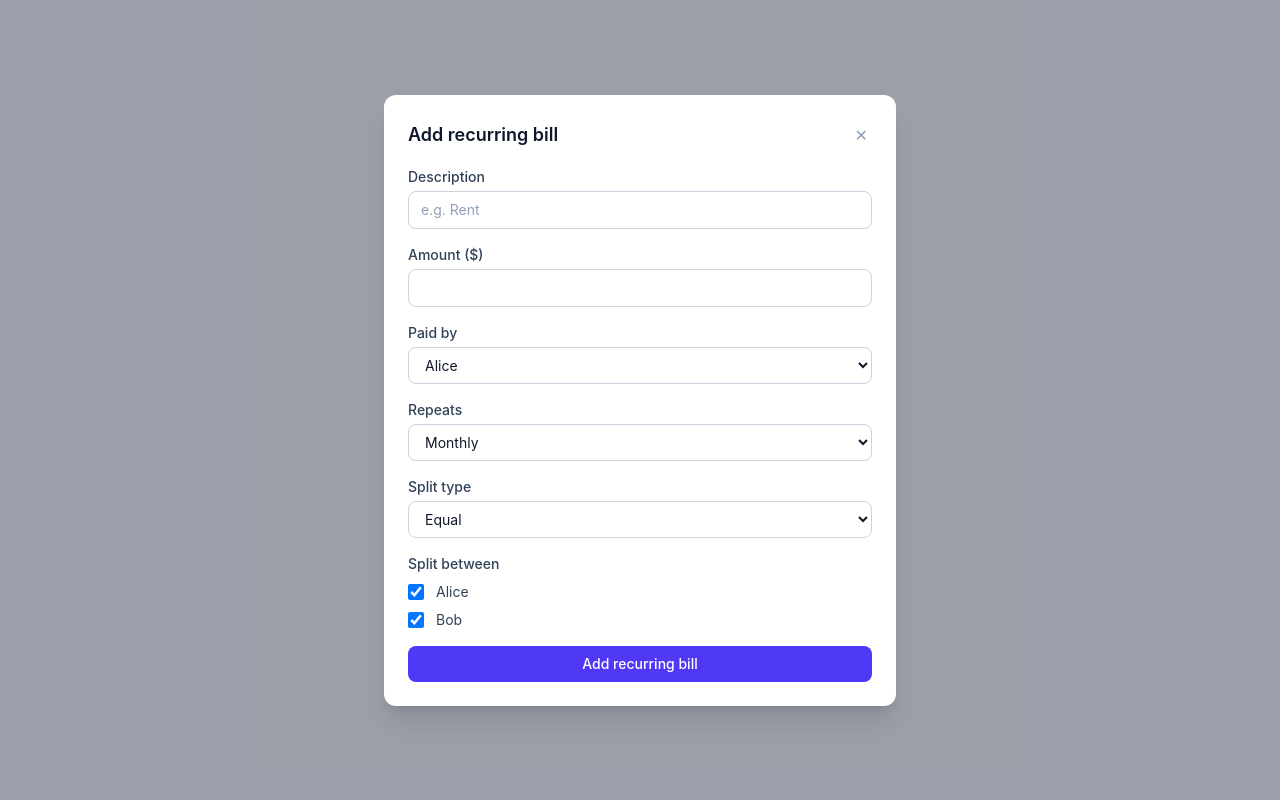
Scenario: AddRecurringModal › shows the server error and keeps the modal open when submission fails
The image size is (1280, 800).
Step 1. Type "Rent" into the field labelled "Description" → [640, 210], box x1=408 y1=190 x2=872 y2=228
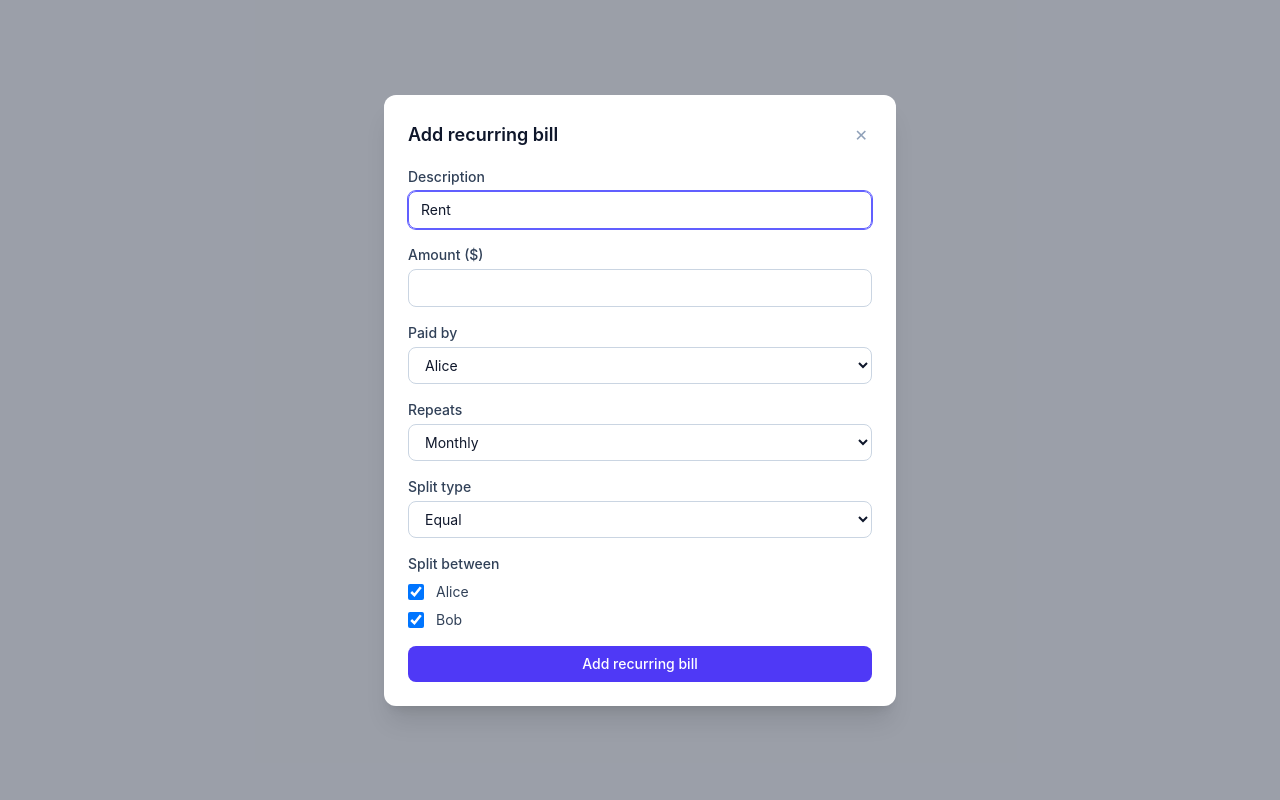
Step 2. Type "10" into the number field labelled "Amount ($)" → [640, 288], box x1=408 y1=268 x2=872 y2=306
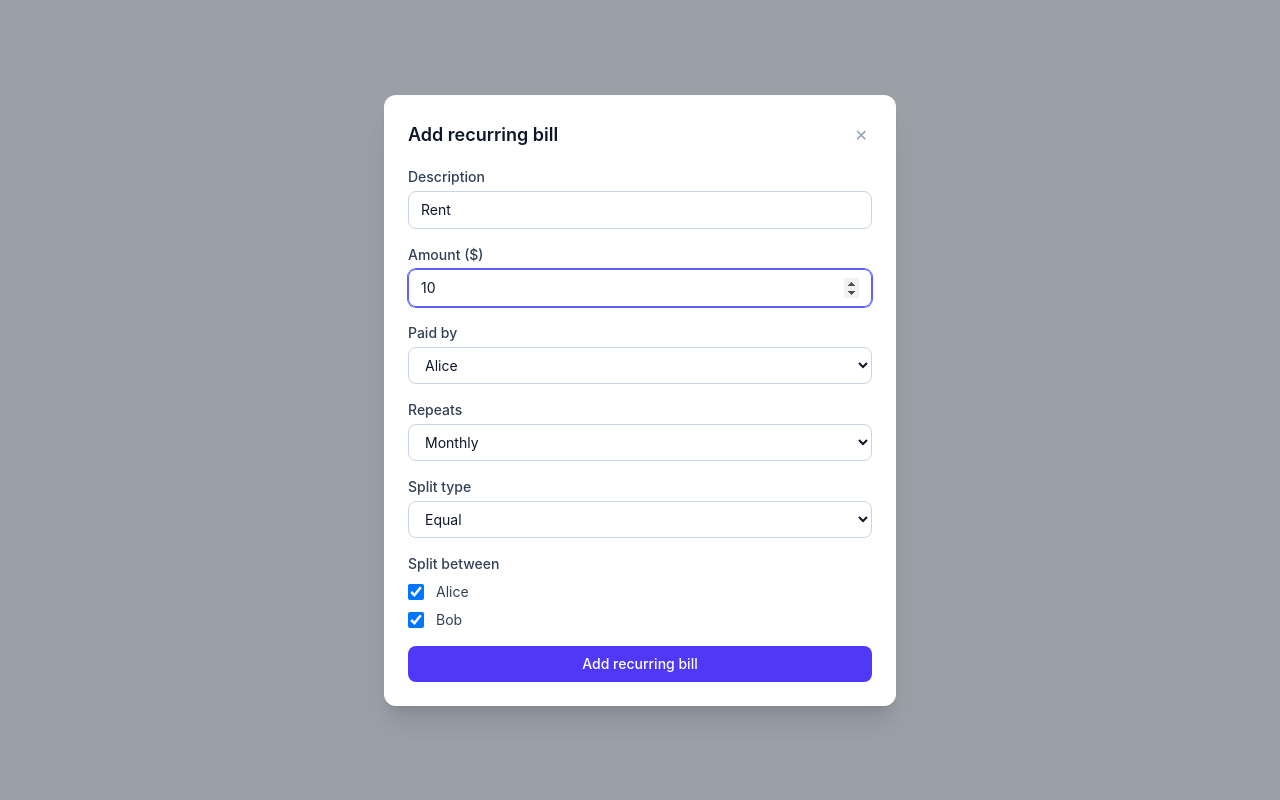
Step 3. Click the button "Add recurring bill" → [640, 664], box x1=408 y1=646 x2=872 y2=682
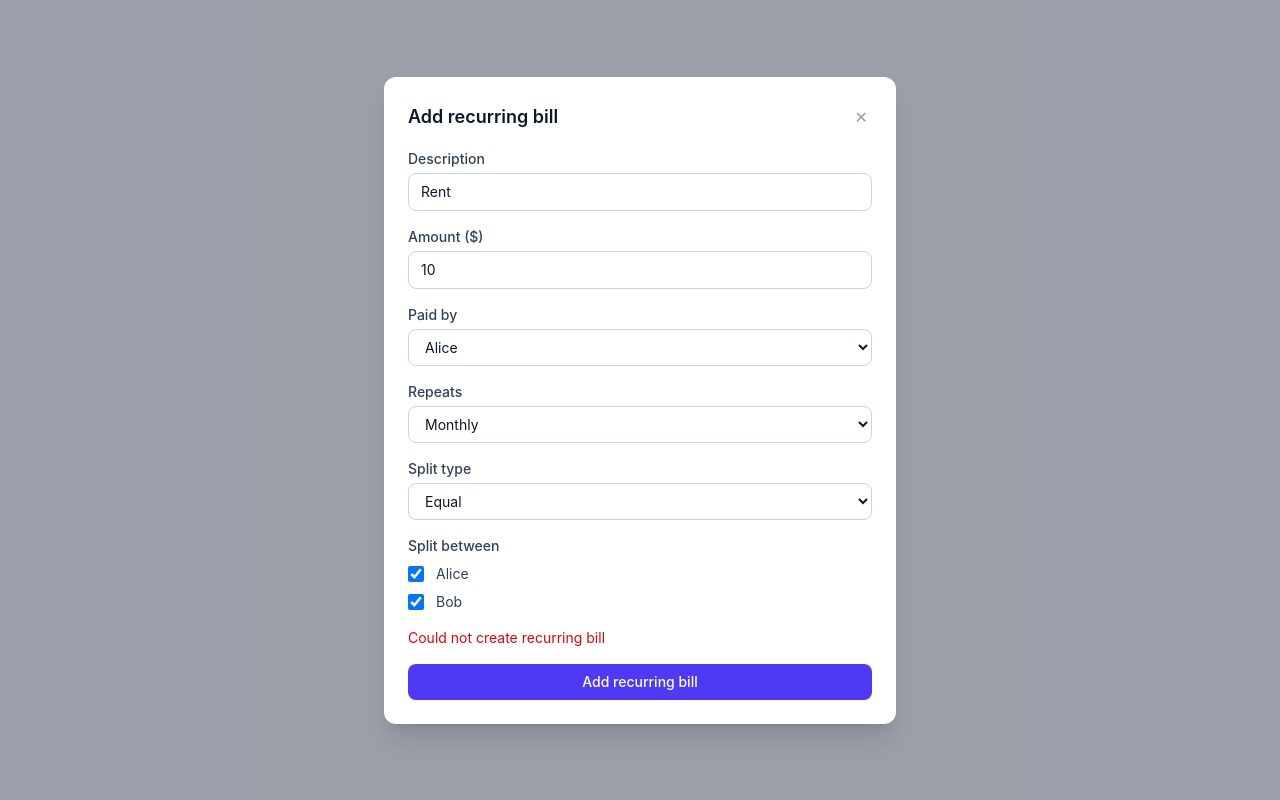
Check: the text "Could not create recurring bill" is shown, box x1=408 y1=628 x2=605 y2=646
